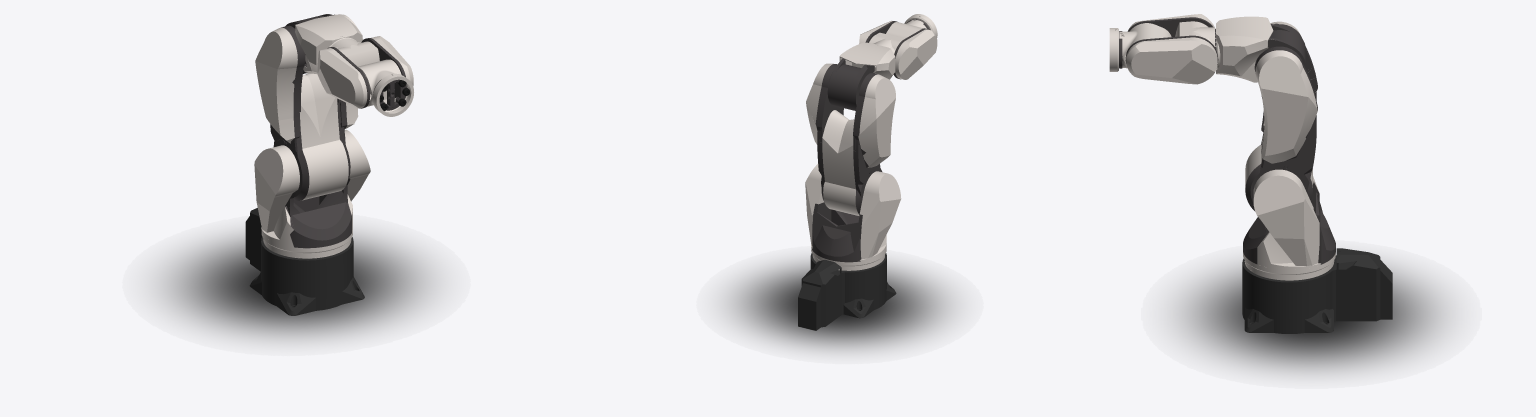
Rendered from RobotArm2.glb.
3 renders of one model, left to right at view 1: azimuth 30°, elevation 25°; view 2: azimuth 150°, elevation 25°; view 3: azimuth 270°, elevation 25°, orthographic. The views are drawn at different scales.
Visible parts, largest first — view 1: pPlane1, J2, J1, Base, J4, J3, J5, J6; view 2: pPlane1, J2, J1, Base, J3, J4, J5; view 3: pPlane1, Base, J1, J2, J4, J3, J5, J6.
Part boxes in pixels (x1=…): pPlane1: x1=161, y1=232, x2=431, y2=339; J2: x1=255, y1=14, x2=362, y2=200; J1: x1=254, y1=129, x2=370, y2=258; Base: x1=245, y1=208, x2=364, y2=315; J4: x1=317, y1=36, x2=413, y2=108; J3: x1=285, y1=14, x2=362, y2=74; J5: x1=358, y1=59, x2=406, y2=110; J6: x1=372, y1=73, x2=413, y2=116; pPlane1: x1=728, y1=260, x2=951, y2=350; J2: x1=806, y1=63, x2=895, y2=215; J1: x1=805, y1=164, x2=901, y2=270; Base: x1=798, y1=253, x2=896, y2=330; J3: x1=827, y1=42, x2=895, y2=110; J4: x1=859, y1=20, x2=937, y2=79; J5: x1=886, y1=19, x2=929, y2=38; pPlane1: x1=1178, y1=264, x2=1444, y2=372; Base: x1=1242, y1=248, x2=1392, y2=333; J1: x1=1243, y1=169, x2=1335, y2=280; J2: x1=1245, y1=21, x2=1317, y2=210; J4: x1=1125, y1=14, x2=1218, y2=84; J3: x1=1215, y1=16, x2=1305, y2=82; J5: x1=1119, y1=23, x2=1171, y2=68; J6: x1=1109, y1=28, x2=1118, y2=71.
Bounding box in the file's own units: 0.8189 × 0.6183 × 0.8189.
5 materials, 1 textured.
